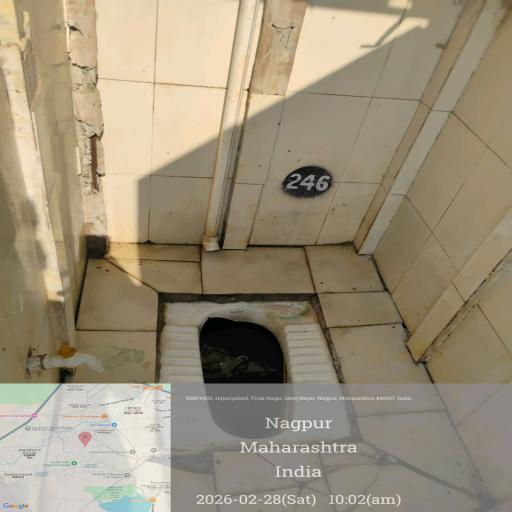dirty_indian: (140, 251, 440, 512)
partial_dirty_floor: (24, 4, 512, 264)
